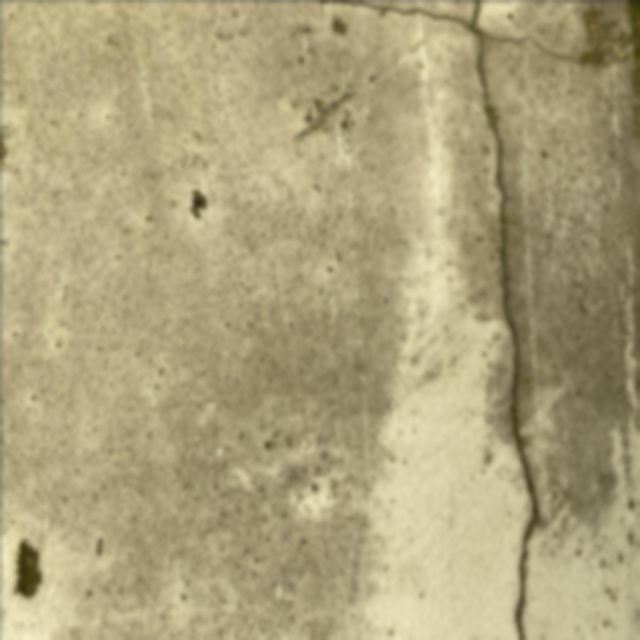SurfaceCrack: (405, 1, 580, 640)
